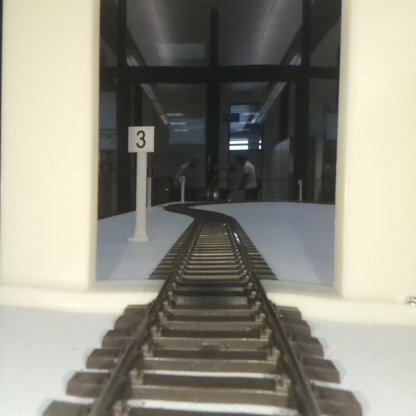white-info-3: (128, 126, 154, 239)
